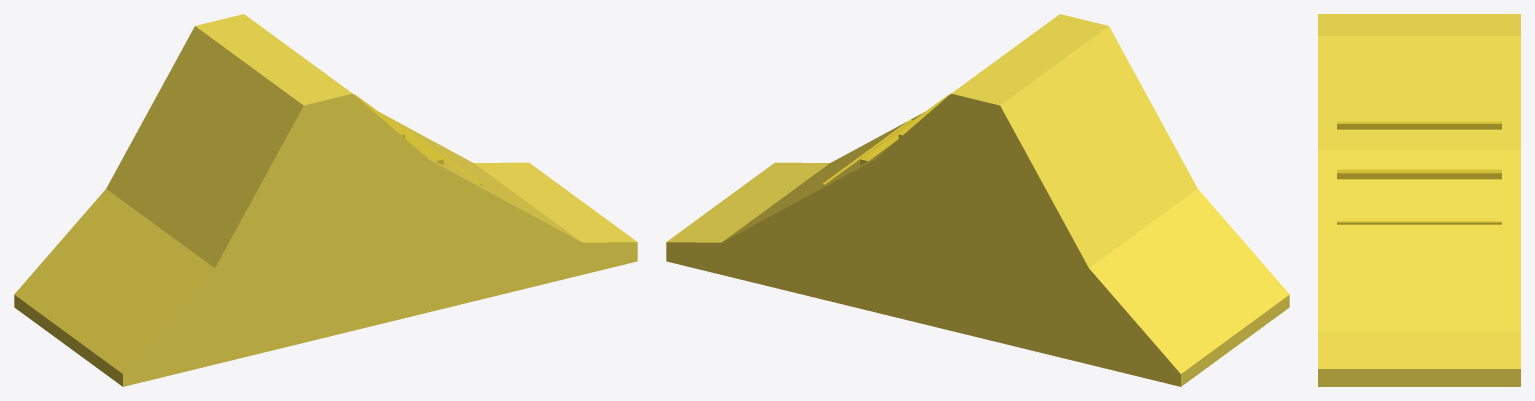
The picture shows the model from 3 angles, left to right: view 1: azimuth 30°, elevation 25°; view 2: azimuth 150°, elevation 25°; view 3: azimuth 270°, elevation 25°; orthographic projection. The views are drawn at different scales.
Visible parts, largest first — view 1: klin; view 2: klin; view 3: klin, rowek3, rowek4, rowek2.
Part boxes in pixels (box(x1,y1,x2,y2)): klin: box(14, 14, 637, 386); klin: box(666, 14, 1289, 386); klin: box(1318, 14, 1520, 386); rowek3: box(1337, 169, 1501, 179); rowek4: box(1337, 121, 1501, 129); rowek2: box(1337, 221, 1501, 224).
Bounding box in the file's own units: 0.336 × 0.148 × 0.123.
